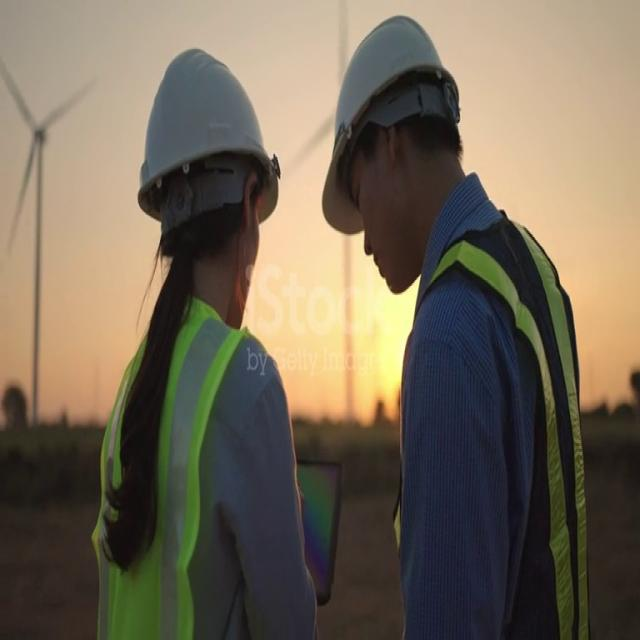capacete: (298, 7, 478, 239), (111, 42, 287, 225)
